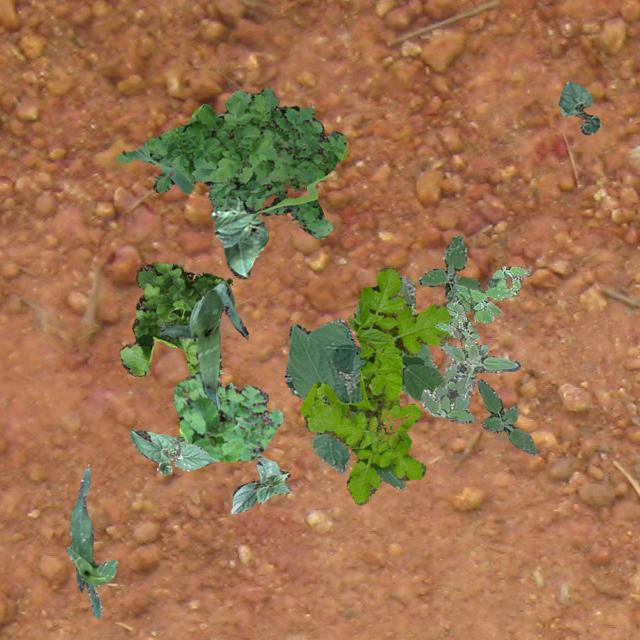crop: (284, 274, 444, 488), (158, 280, 248, 408), (66, 468, 116, 618), (210, 195, 268, 278), (128, 428, 212, 473), (230, 456, 290, 512), (558, 80, 600, 134), (158, 432, 184, 442)
weed: (300, 264, 454, 503), (116, 88, 347, 238), (118, 262, 230, 376), (172, 372, 282, 460), (420, 339, 520, 422), (434, 264, 530, 350), (476, 378, 536, 454), (418, 234, 482, 302)
